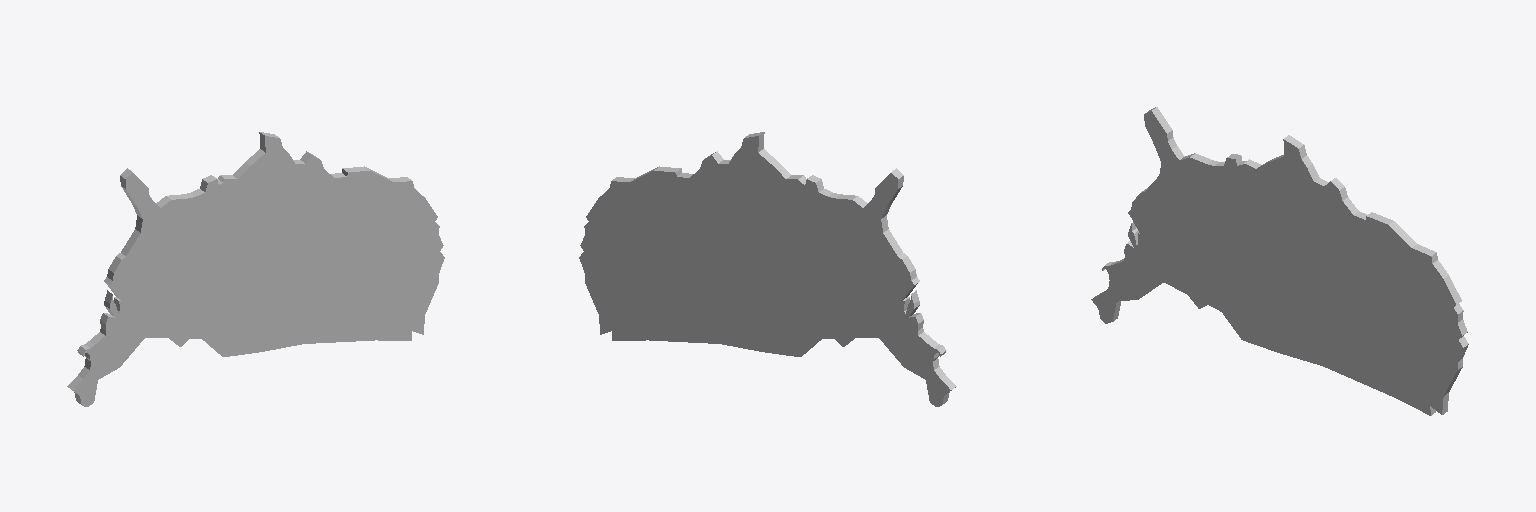
The model's file is usa-48.obj.
The picture shows the model from 3 angles: view 1: azimuth 30°, elevation 25°; view 2: azimuth 150°, elevation 25°; view 3: azimuth 330°, elevation 25°; orthographic projection.
Parts seen in each view (by area): view 1: Spline_Object; view 2: Spline_Object; view 3: Spline_Object.
Boxes of the visible parts, x1=… form: Spline_Object: x1=67, y1=132, x2=444, y2=406; Spline_Object: x1=579, y1=132, x2=956, y2=406; Spline_Object: x1=1091, y1=107, x2=1468, y2=415.
Size of the model in its own units: 369 by 229 by 9.58.